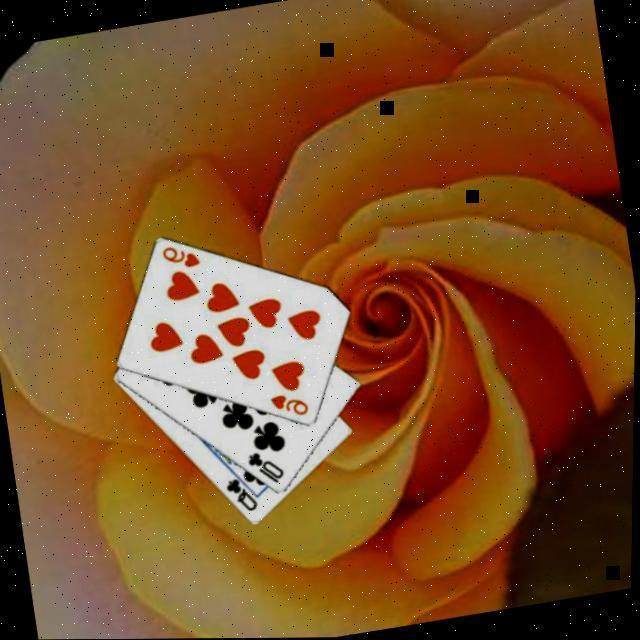10C: (244, 444, 290, 489)
9H: (160, 238, 206, 274), (268, 387, 314, 421)
QC: (222, 470, 264, 518)
